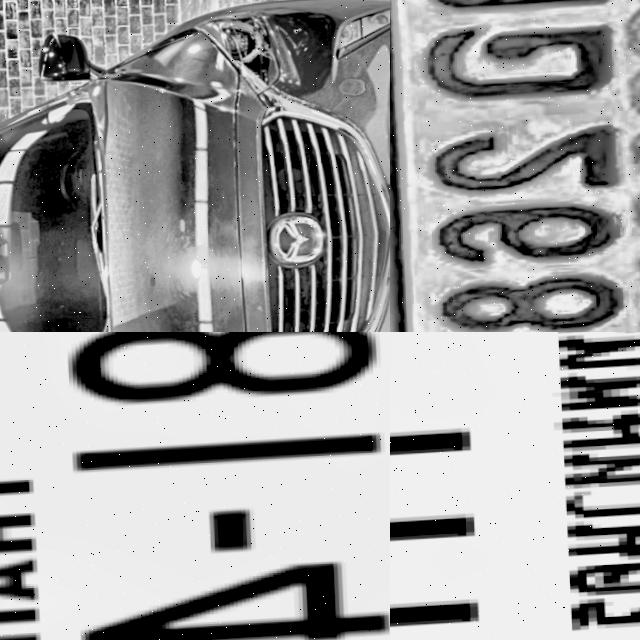license-plate: (0, 332, 390, 640), (390, 0, 640, 332), (390, 332, 640, 640)
